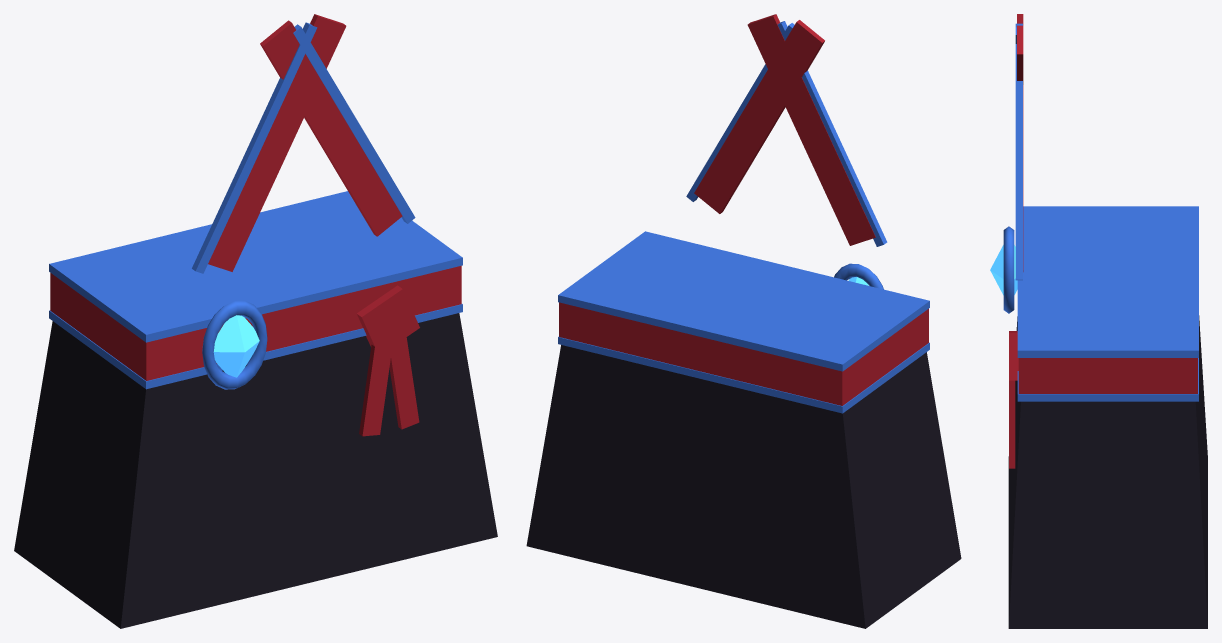
File: eqf_eqko1.glb
3 views of the same model, side by side, from view 1: azimuth 30°, elevation 25°; view 2: azimuth 150°, elevation 25°; view 3: azimuth 270°, elevation 25° (orthographic). The views are drawn at different scales.
Bounding box in the file's own units: 2.54 × 3.6 × 1.36.
